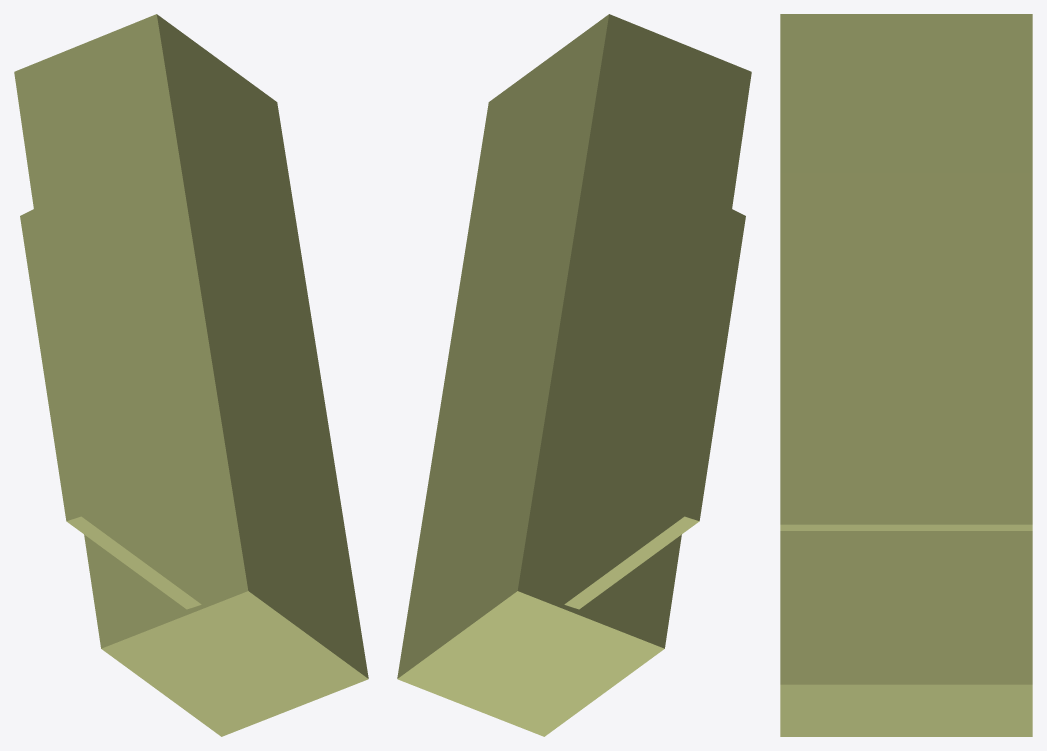
3 views of the same model, side by side, from view 1: azimuth 30°, elevation 25°; view 2: azimuth 150°, elevation 25°; view 3: azimuth 270°, elevation 25° (orthographic). The views are drawn at different scales.
Visible parts, largest first — view 1: 0_0_1_3_2_3_2_3; view 2: 0_0_1_3_2_3_2_3; view 3: 0_0_1_3_2_3_2_3.
Boxes of the visible parts, left/top/right/bottom form: 0_0_1_3_2_3_2_3: left=14, top=14, right=368, bottom=736; 0_0_1_3_2_3_2_3: left=397, top=14, right=751, bottom=736; 0_0_1_3_2_3_2_3: left=780, top=14, right=1032, bottom=736.
Bounding box in the file's own units: 10.1 × 25.6 × 9.
